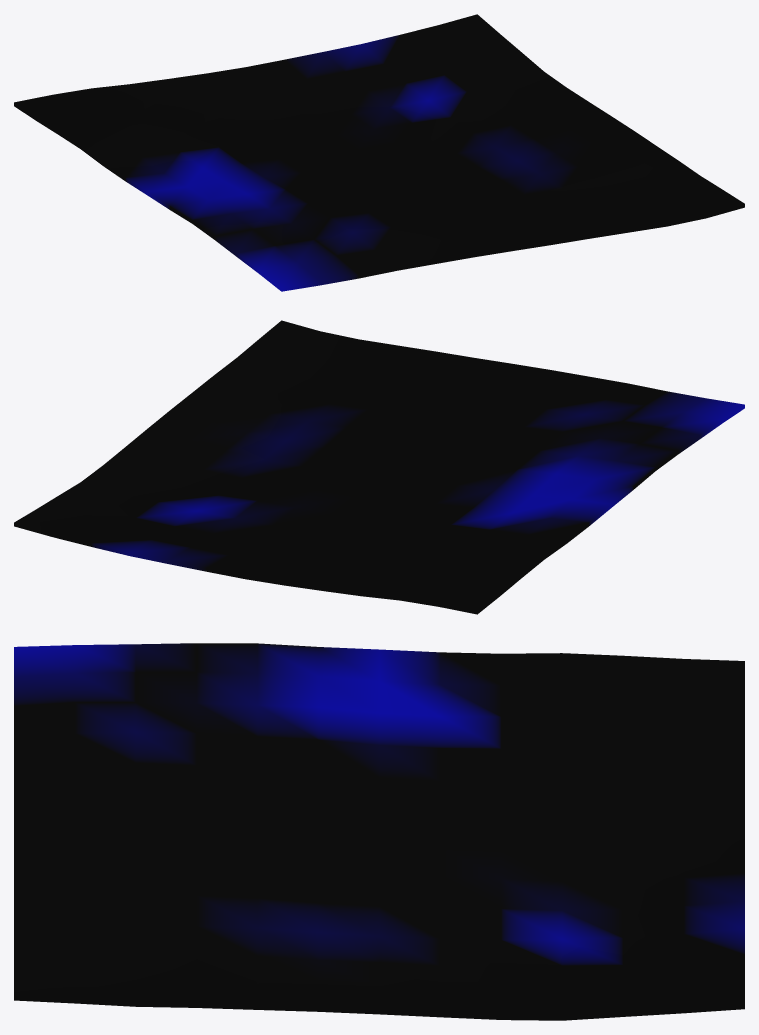
The model's file is coast_11_0.glb.
The picture shows the model from 3 angles, top to bottom: view 1: azimuth 30°, elevation 25°; view 2: azimuth 150°, elevation 25°; view 3: azimuth 270°, elevation 25°; orthographic projection. The views are drawn at different scales.
Visible parts, largest first — view 1: terrain; view 2: terrain; view 3: terrain.
Boxes of the visible parts, x1,y1,x2,y2 form: terrain: [14, 14, 744, 291]; terrain: [14, 320, 744, 614]; terrain: [14, 643, 744, 1020].
Size of the model in its own units: 192 by 19.89 by 192.
